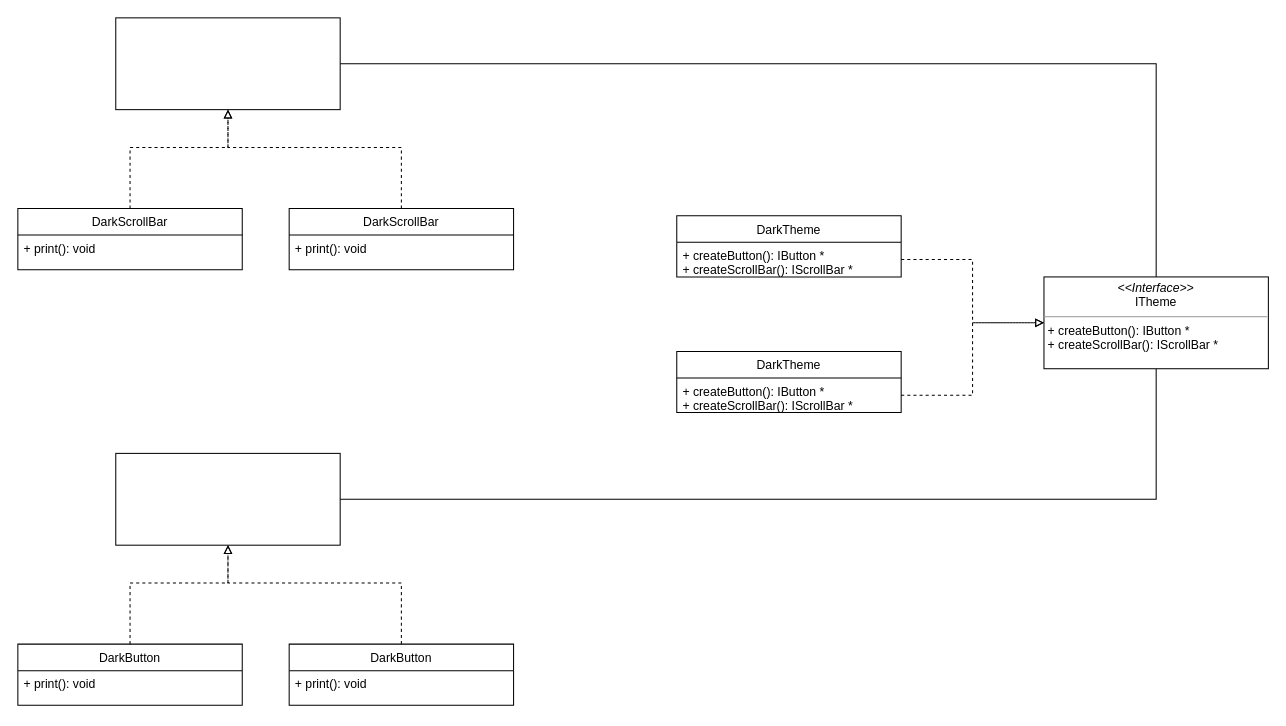
The diagram is 1286 pixels wide and 726 high, and some of its shapes have lost their labels. The box of each missing label's shape, as (x1, y1, x2, y2) in pixels:
<<Interface>> IButton + print(): void: (115, 452, 340, 545)
<<Interface>> IScrollBar + print(): void: (115, 17, 340, 110)
